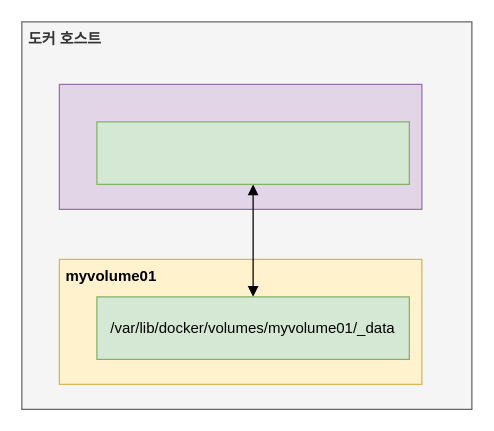
The diagram is 494 pixels wide and 431 high, and some of its shapes have lost their labels. The box of each missing label's shape, as (x1, y1, x2, y2) in pixels:
/var/lib/postgresql: (96, 121, 409, 184)
컨테이너: (58, 83, 422, 209)
